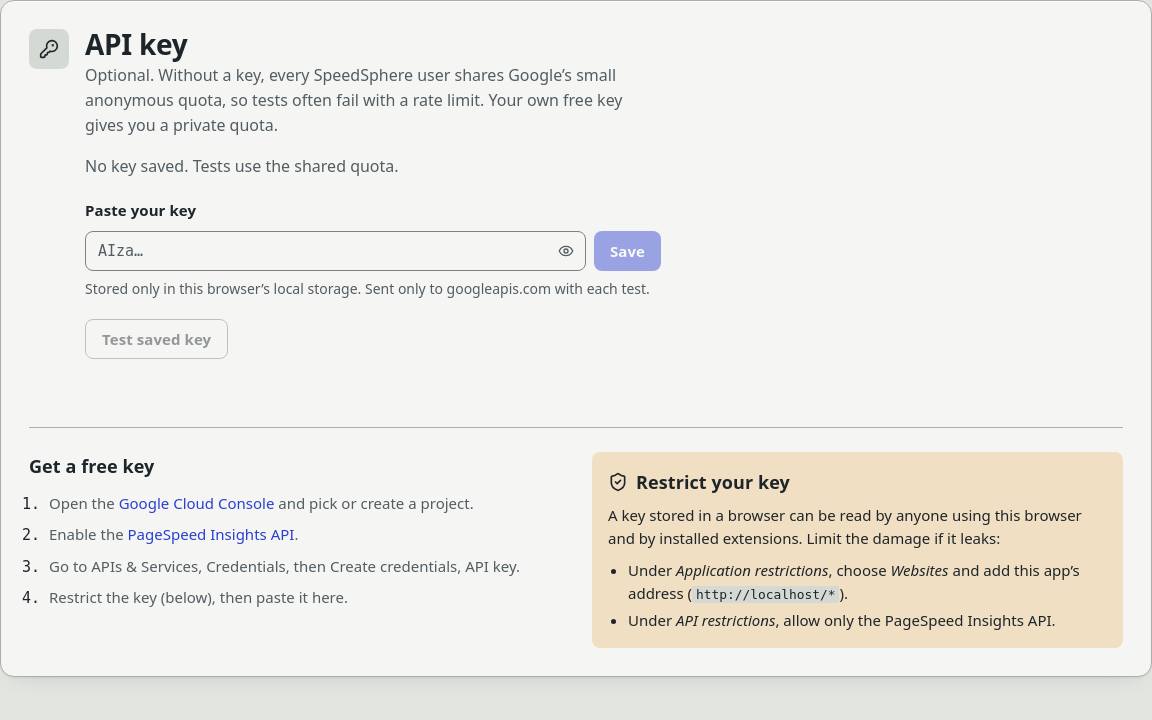
Test: ApiKeyPanel › reports quota exhaustion from the test button
Step 1. Type "k" into the password field labelled "Paste your key" → (336, 251), box [85,231,586,271]
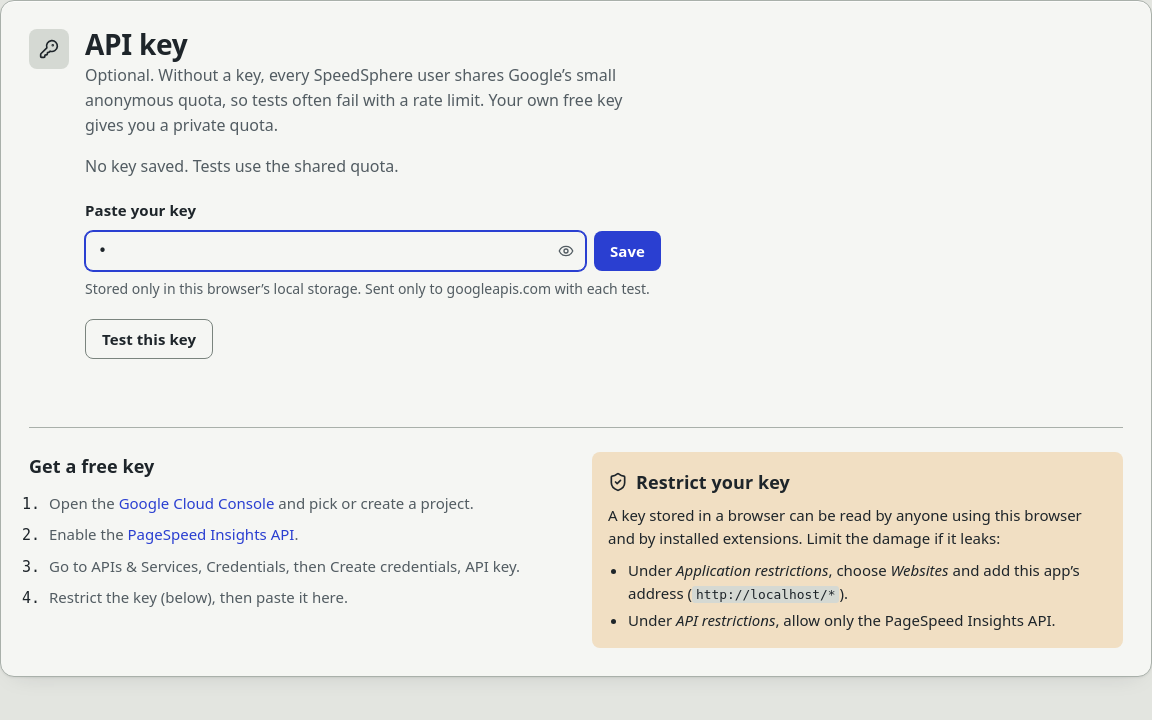
Step 2. Click the button "Test this key" → (149, 339), box [85,319,213,359]
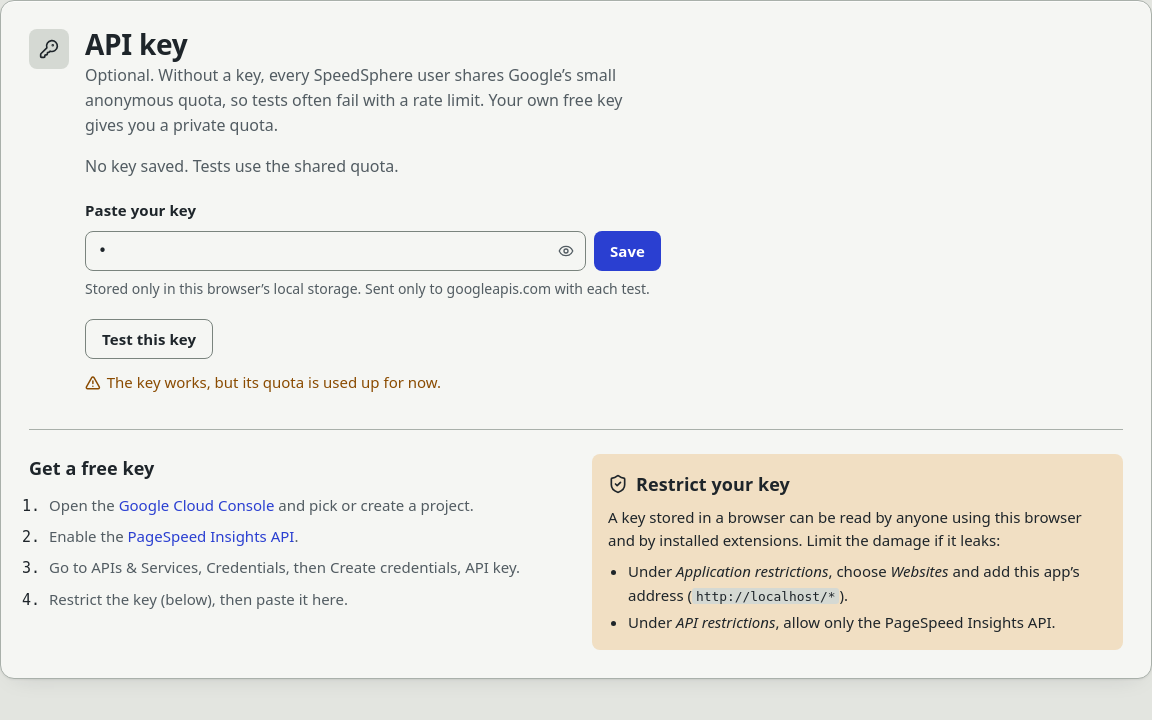
Now the text "The key works, but its quota is used up for now." is shown, box [85,371,441,394]
